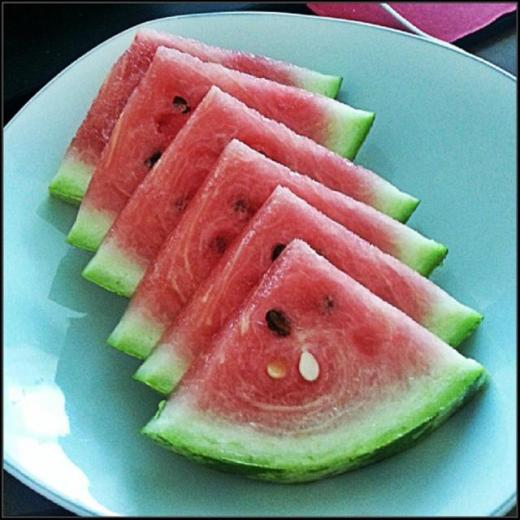Cherry: (49, 27, 490, 485)
